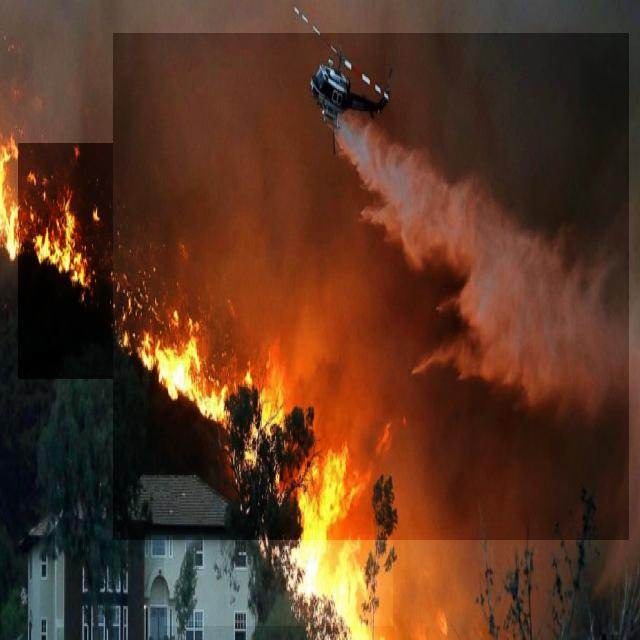Fire: (164, 314, 393, 626), (19, 143, 172, 379)
Smoke: (113, 33, 629, 540)
